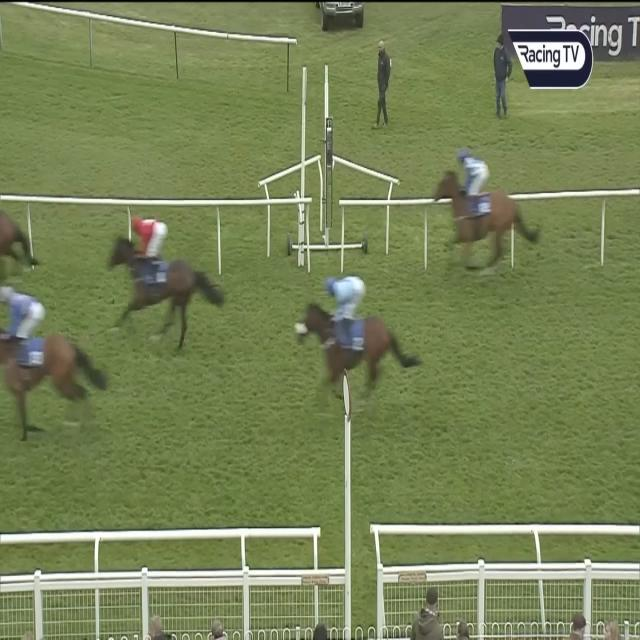horses-racing: (104, 207, 226, 343), (298, 273, 418, 402), (1, 286, 95, 446), (439, 148, 531, 272)
